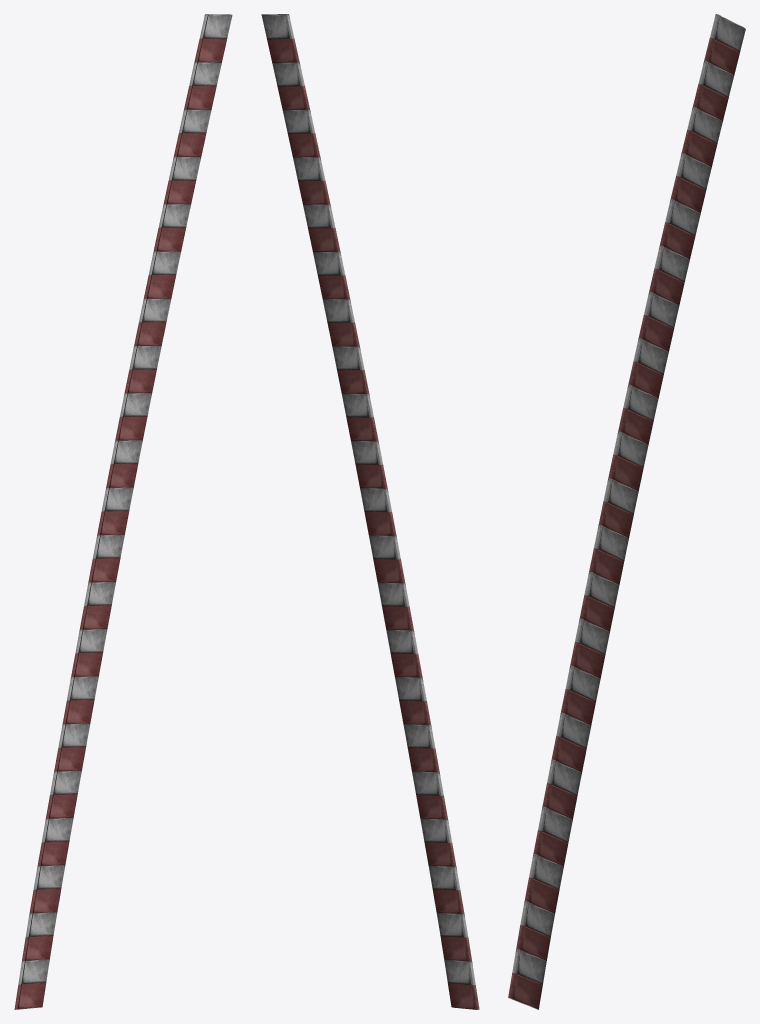
Rendered from _1KERB_01_06_Scene.233.obj.
3 views of the same model, side by side, from view 1: azimuth 30°, elevation 25°; view 2: azimuth 150°, elevation 25°; view 3: azimuth 330°, elevation 25° (orthographic). The views are drawn at different scales.
Parts seen in each view (by area): view 1: _1KERB_01_06_Scene.233; view 2: _1KERB_01_06_Scene.233; view 3: _1KERB_01_06_Scene.233.
Part boxes in pixels (box(x1,y1,x2,y2)): _1KERB_01_06_Scene.233: box(14, 14, 232, 1009); _1KERB_01_06_Scene.233: box(261, 14, 479, 1009); _1KERB_01_06_Scene.233: box(508, 14, 745, 1009).
Bounding box in the file's own units: 9.92 × 41.42 × 0.0718.
